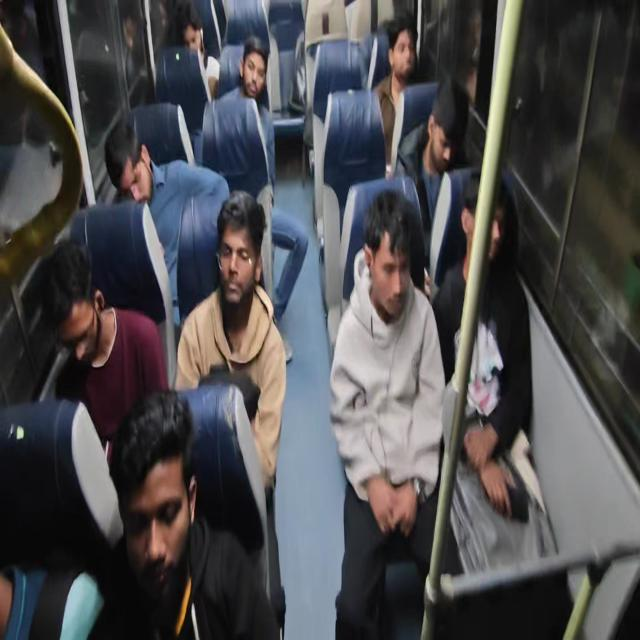person: (104, 388, 215, 615), (32, 250, 115, 398), (454, 159, 527, 313), (332, 203, 418, 325), (104, 131, 173, 251), (199, 200, 258, 292), (227, 36, 295, 110), (420, 72, 460, 147), (383, 25, 428, 89), (168, 17, 210, 56)
